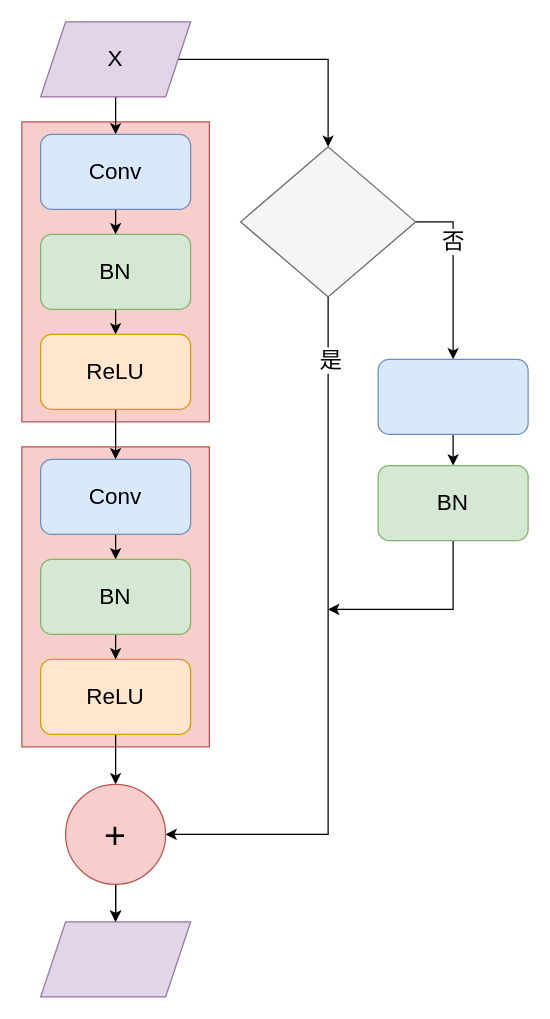
The diagram is 550 pixels wide and 1019 high, and some of its shapes have lost their labels. The shapes that lost their labels are listed below. From the top down, each one's box as (x1, y1, x2, y2) in pixels, then its label:
(239, 146, 416, 297): 通道数是否相同
(377, 358, 528, 434): Conv1x1
(39, 921, 191, 997): output
